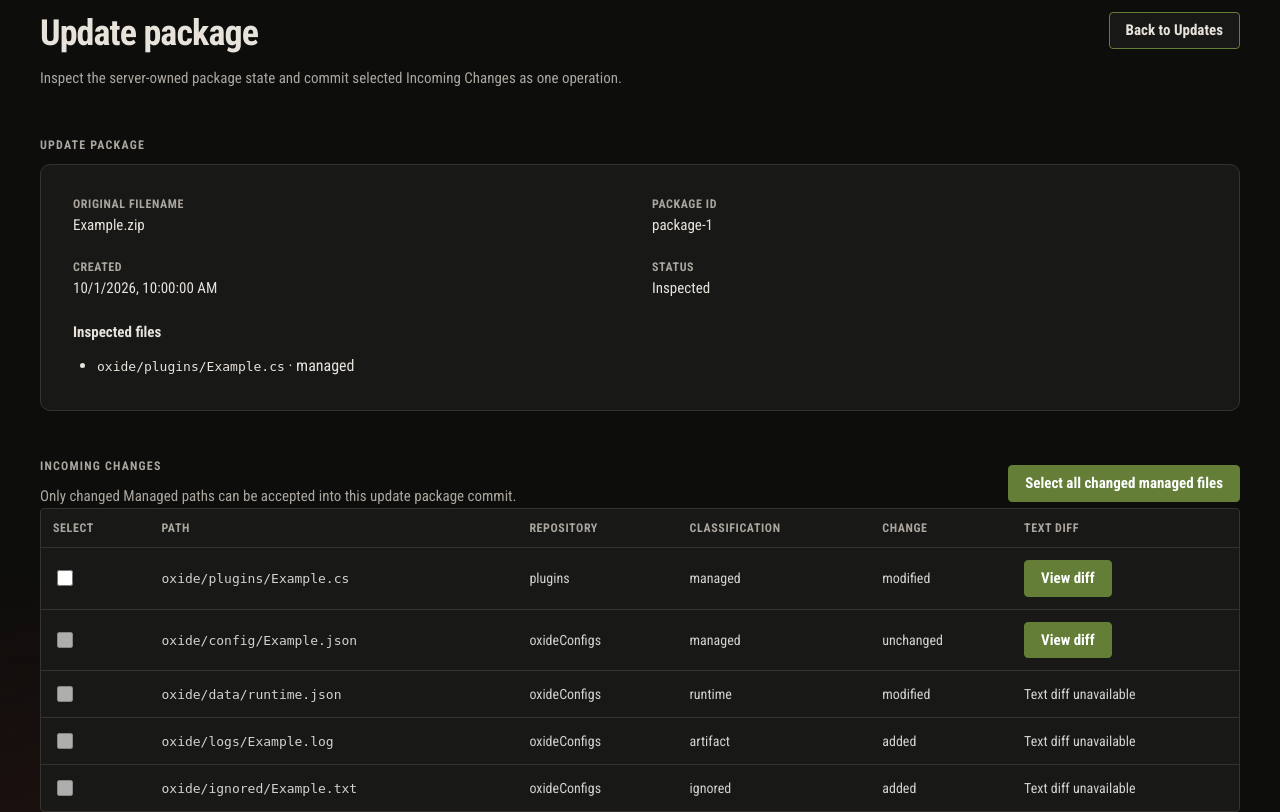
Test case: Plugins Updates › loads an inspected package from its reloadable URL and selects only changed Managed files
Expected: the text "Example.zip" is shown, [73,216,145,234]
Expected: the text "runtime" is shown, [678,671,870,718]
Click the button "Select all changed managed files": (1124, 484) [1008,465,1240,502]
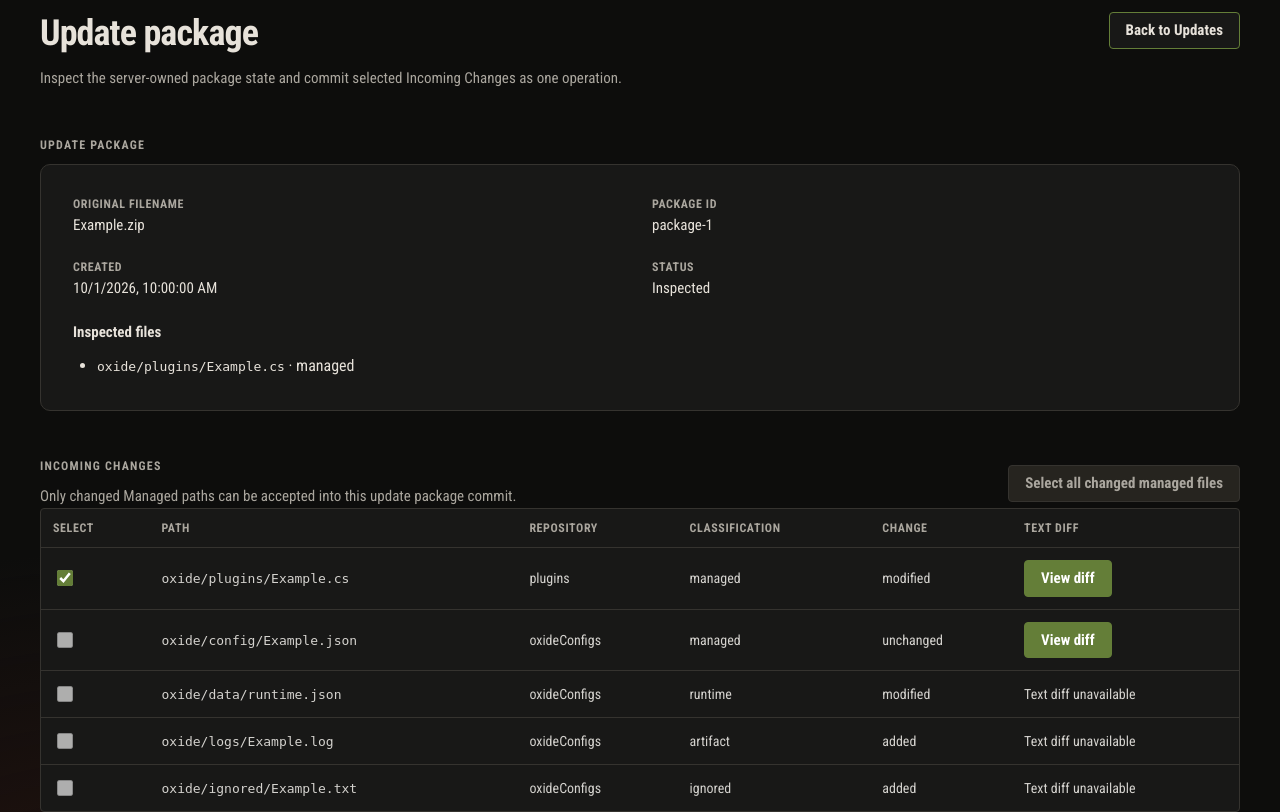
Expected: the checkbox named "Accept oxide/config/Example.json" is not checked, [57,632,73,648]
Now the checkbox named "Accept oxide/plugins/Example.cs" is checked, box [57,570,73,586]
